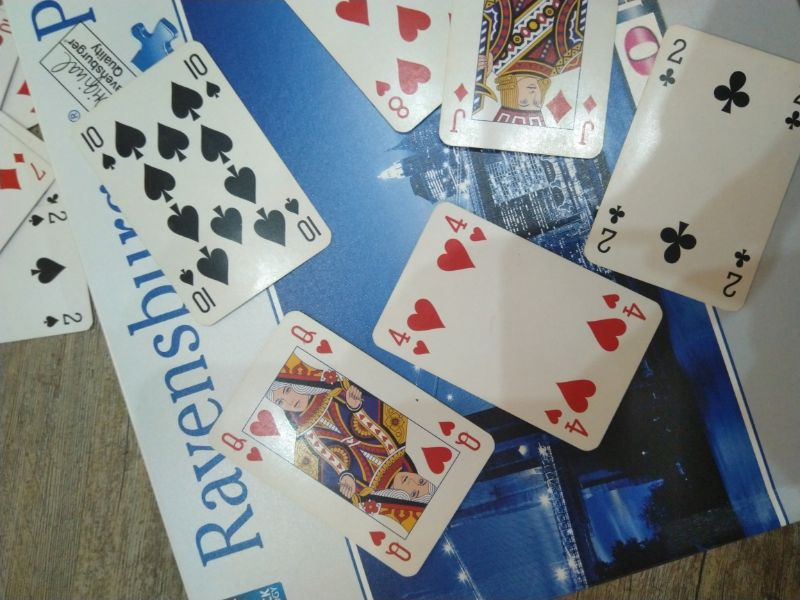2c: (717, 245, 756, 302), (594, 203, 632, 257), (656, 35, 693, 90)
2s: (27, 207, 70, 232), (39, 310, 85, 330)
4h: (540, 406, 591, 440), (441, 212, 490, 245), (600, 292, 649, 324), (387, 324, 432, 358)
7d: (9, 148, 48, 182)
8h: (372, 77, 412, 120)
Jd: (575, 90, 603, 149), (445, 79, 472, 136)
Qh: (217, 430, 267, 466), (436, 416, 483, 453), (366, 527, 414, 563), (287, 322, 335, 356)
Ts: (180, 51, 224, 100), (75, 125, 119, 173), (177, 264, 219, 314), (282, 195, 324, 244)
